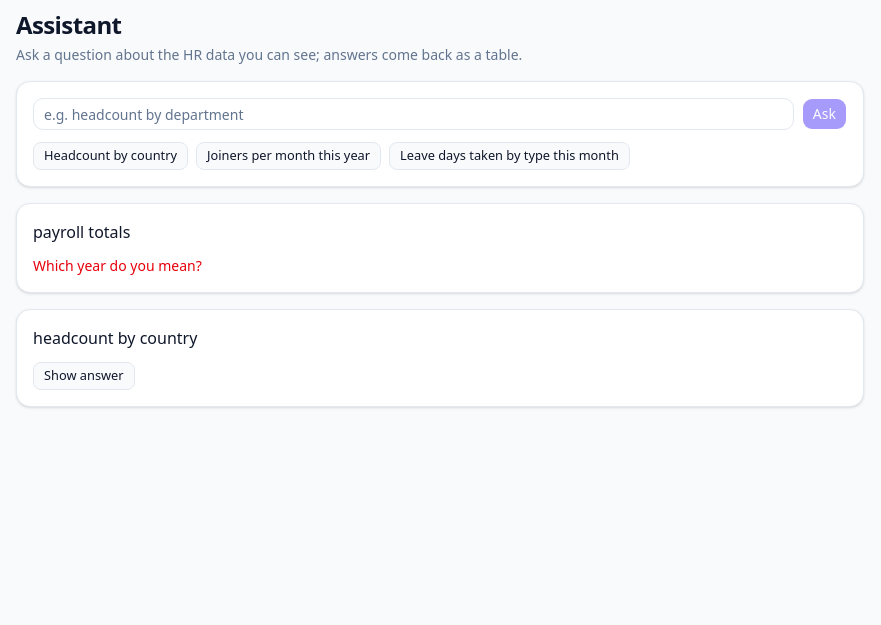
Test case: AssistantPage › history › puts a new question above the history
The image size is (881, 625).
Type "total employees" into the field named "Question" at {"x": 413, "y": 114}, box [33, 98, 794, 130]
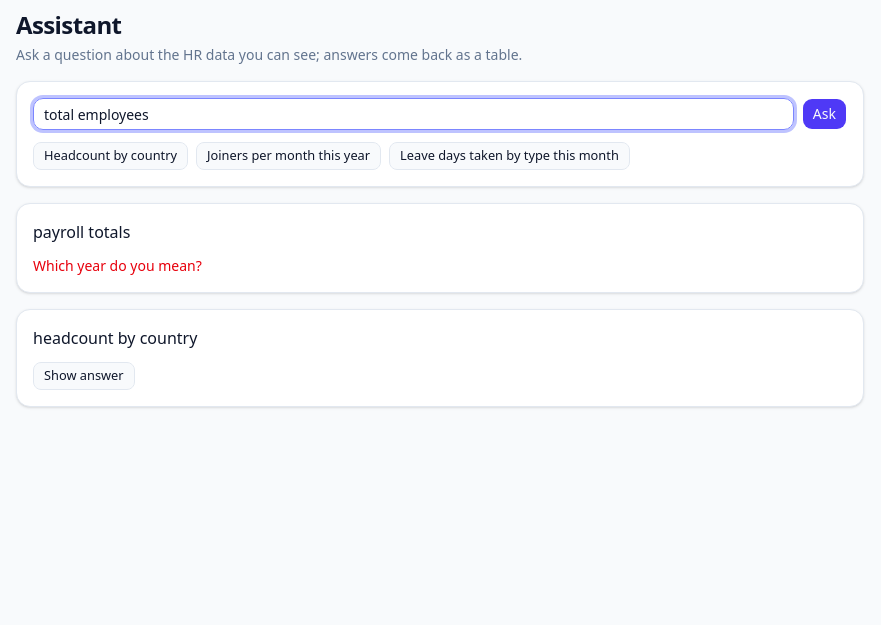
Click the button "Ask" at {"x": 824, "y": 114}, box [802, 98, 847, 130]
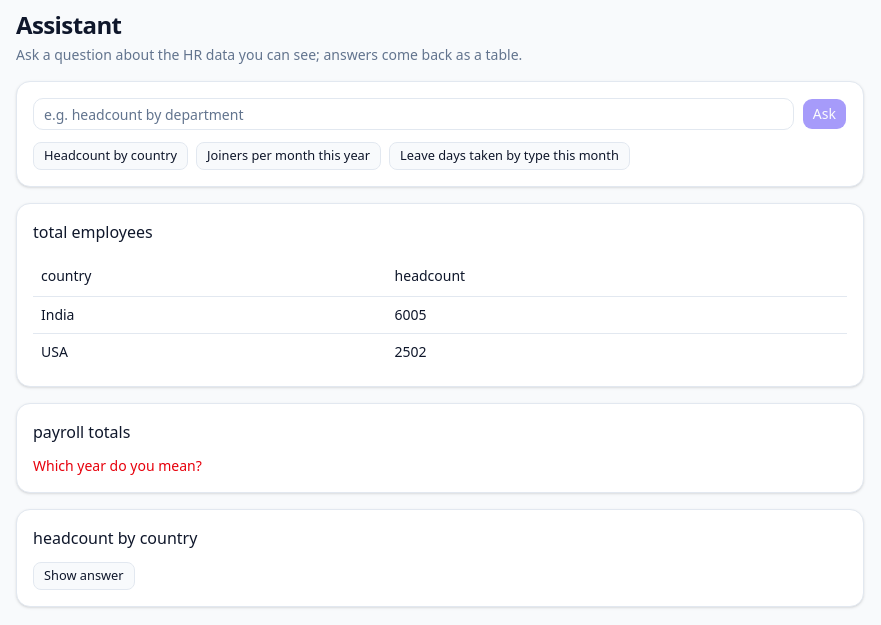
Expected: the text "total employees" is shown, [33, 220, 153, 244]
